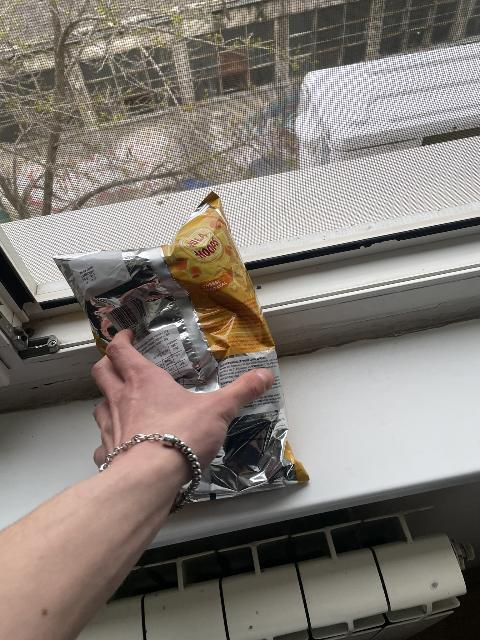Chio Hula Hoops Cheese 70g: (53, 190, 310, 502)
